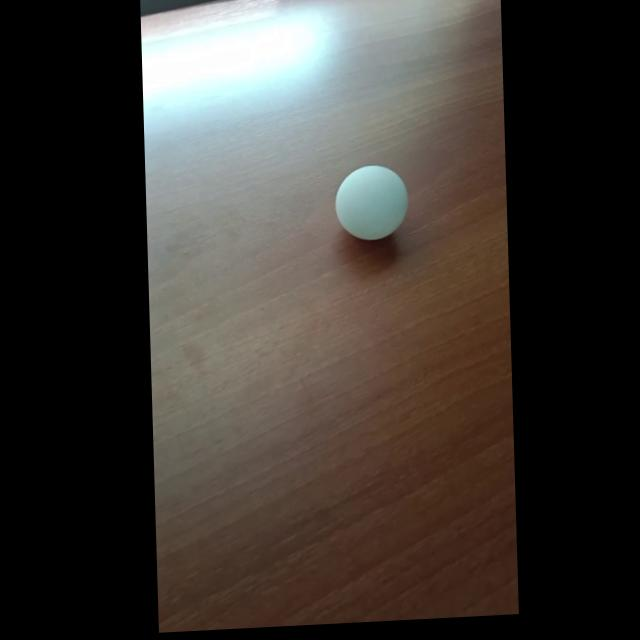white ball: (333, 162, 410, 242)
